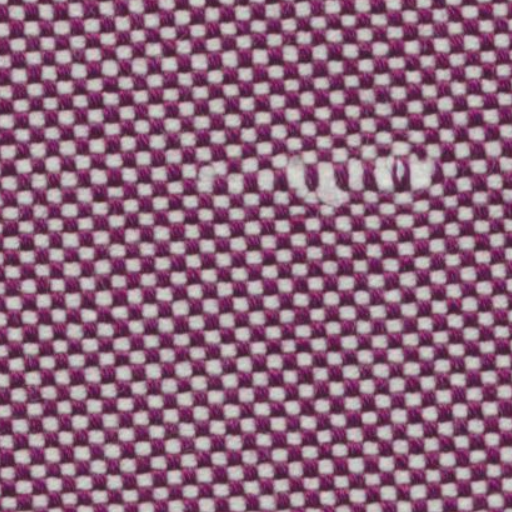DaiSha: (188, 146, 448, 214)
